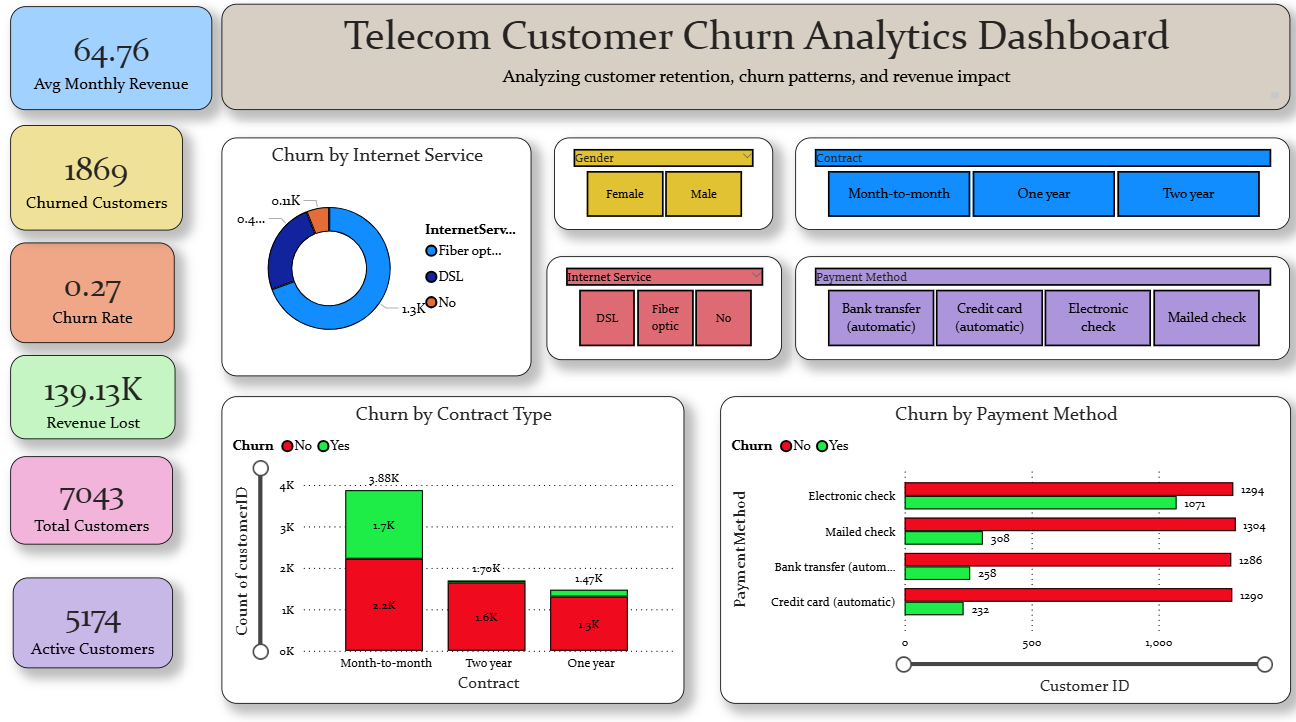

The dashboard page shown, as its layout file describes it:
{"tool":"powerbi","page":{"name":"Executive Overview","canvas":[1280,720],"ordinal":0},"visuals":[{"type":"card","fields":{"Values":["Telco-Customer-Churn.Total Customers"]},"box":[11,455.6,159.2,86.4],"z":0},{"type":"card","fields":{"Values":["Telco-Customer-Churn.Churn Rate"]},"box":[11,247,160.5,98.8],"z":1000},{"type":"card","fields":{"Values":["Telco-Customer-Churn.Revenue Lost"]},"box":[11,356.8,161.9,82.3],"z":2000},{"type":"card","fields":{"Values":["Telco-Customer-Churn.Avg Monthly Revenue"]},"box":[11,16.5,197.6,101.5],"z":3000},{"type":"columnChart","title":"Churn by Contract Type","fields":{"Category":["Telco-Customer-Churn.Contract"],"Y":["CountNonNull(Telco-Customer-Churn.customerID)"],"Series":["Telco-Customer-Churn.Churn"]},"box":[218.2,397.9,452.8,300.5],"z":4000},{"type":"clusteredBarChart","title":"Churn by Payment Method","fields":{"Category":["Telco-Customer-Churn.PaymentMethod"],"Y":["CountNonNull(Telco-Customer-Churn.customerID)"],"Series":["Telco-Customer-Churn.Churn"]},"box":[705.3,397.9,558.5,300.5],"z":5000},{"type":"donutChart","title":"Churn by Internet Service","fields":{"Category":["Telco-Customer-Churn.InternetService"],"Y":["CountNonNull(Telco-Customer-Churn.customerID)"]},"box":[218.2,144.1,303.3,233.3],"z":6000},{"type":"slicer","fields":{"Values":["Telco-Customer-Churn.gender"]},"box":[543.4,144.1,214.1,90.6],"z":7000},{"type":"slicer","fields":{"Values":["Telco-Customer-Churn.Contract"]},"box":[779.4,144.1,484.4,90.6],"z":8000},{"type":"slicer","fields":{"Values":["Telco-Customer-Churn.InternetService"]},"box":[535.2,260.7,230.5,101.5],"z":9000},{"type":"slicer","fields":{"Values":["Telco-Customer-Churn.PaymentMethod"]},"box":[779.4,260.7,484.4,101.5],"z":10000},{"type":"textbox","title":"Telecom Customer Churn Analytics Dashboard","box":[218.2,13.7,1045.6,104.3],"z":11000},{"type":"card","fields":{"Values":["Telco-Customer-Churn.Churned Customers"]},"box":[11,131.7,168.8,102.9],"z":12000},{"type":"card","fields":{"Values":["Telco-Customer-Churn.Active Customers"]},"box":[13.7,575,156.4,89.2],"z":13000}]}

Visuals, with their boxes in screenshot pixels (x1, y1, x2, y2), scaled from the page's 1280x720 canvas onto the 1296x722 screenshot:
card - Telco-Customer-Churn.Total Customers: bbox(11, 457, 172, 544)
card - Telco-Customer-Churn.Churn Rate: bbox(11, 248, 174, 347)
card - Telco-Customer-Churn.Revenue Lost: bbox(11, 358, 175, 440)
card - Telco-Customer-Churn.Avg Monthly Revenue: bbox(11, 17, 211, 118)
"Churn by Contract Type" columnChart: bbox(221, 399, 679, 700)
"Churn by Payment Method" clusteredBarChart: bbox(714, 399, 1280, 700)
"Churn by Internet Service" donutChart: bbox(221, 145, 528, 378)
slicer - Telco-Customer-Churn.gender: bbox(550, 145, 767, 235)
slicer - Telco-Customer-Churn.Contract: bbox(789, 145, 1280, 235)
slicer - Telco-Customer-Churn.InternetService: bbox(542, 261, 775, 363)
slicer - Telco-Customer-Churn.PaymentMethod: bbox(789, 261, 1280, 363)
"Telecom Customer Churn Analytics Dashboard" textbox: bbox(221, 14, 1280, 118)
card - Telco-Customer-Churn.Churned Customers: bbox(11, 132, 182, 235)
card - Telco-Customer-Churn.Active Customers: bbox(14, 577, 172, 666)
